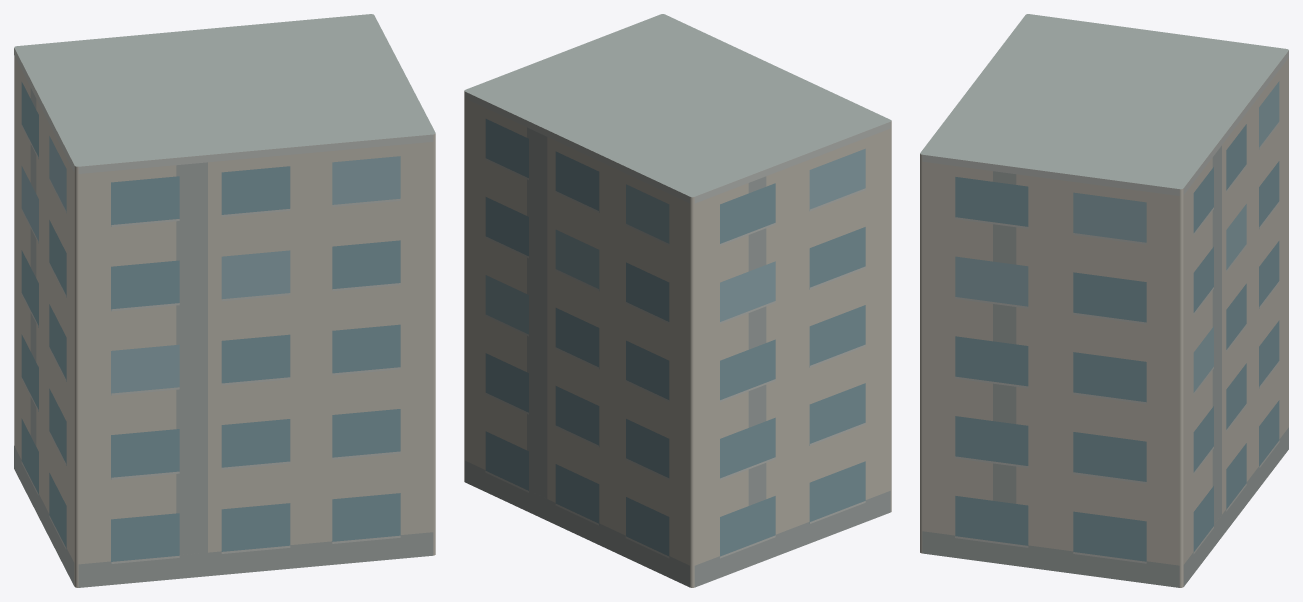
Rendered from survey-upis-32787721.glb.
3 views of the same model, side by side, from view 1: azimuth 30°, elevation 25°; view 2: azimuth 150°, elevation 25°; view 3: azimuth 270°, elevation 25° (orthographic). The views are drawn at different scales.
Visible parts, largest first — view 1: survey-upis-32787721.tmp; view 2: survey-upis-32787721.tmp; view 3: survey-upis-32787721.tmp.
Part boxes in pixels (x1=…): survey-upis-32787721.tmp: x1=14, y1=14, x2=435, y2=587; survey-upis-32787721.tmp: x1=464, y1=14, x2=891, y2=587; survey-upis-32787721.tmp: x1=920, y1=14, x2=1288, y2=587.
Bounding box in the file's own units: 13.1 × 13.9 × 11.66.
